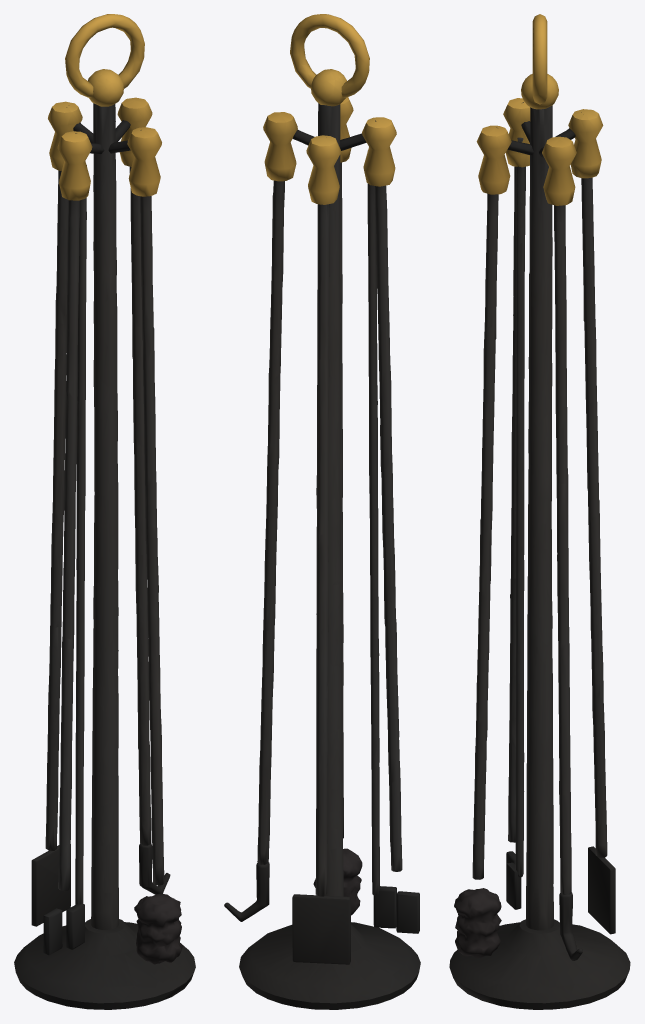
Rendered from ember_fire_irons.glb.
3 renders of one model, left to right at view 1: azimuth 30°, elevation 25°; view 2: azimuth 150°, elevation 25°; view 3: azimuth 270°, elevation 25°, orthographic.
Visible parts, largest first — view 1: ember_fire_irons; view 2: ember_fire_irons; view 3: ember_fire_irons.
Part boxes in pixels (<box>): ember_fire_irons: <box>14,14,195,1009</box>; ember_fire_irons: <box>224,14,420,1009</box>; ember_fire_irons: <box>449,14,630,1009</box>.
Size of the model in its own units: 12.92 by 72.1 by 12.4.
